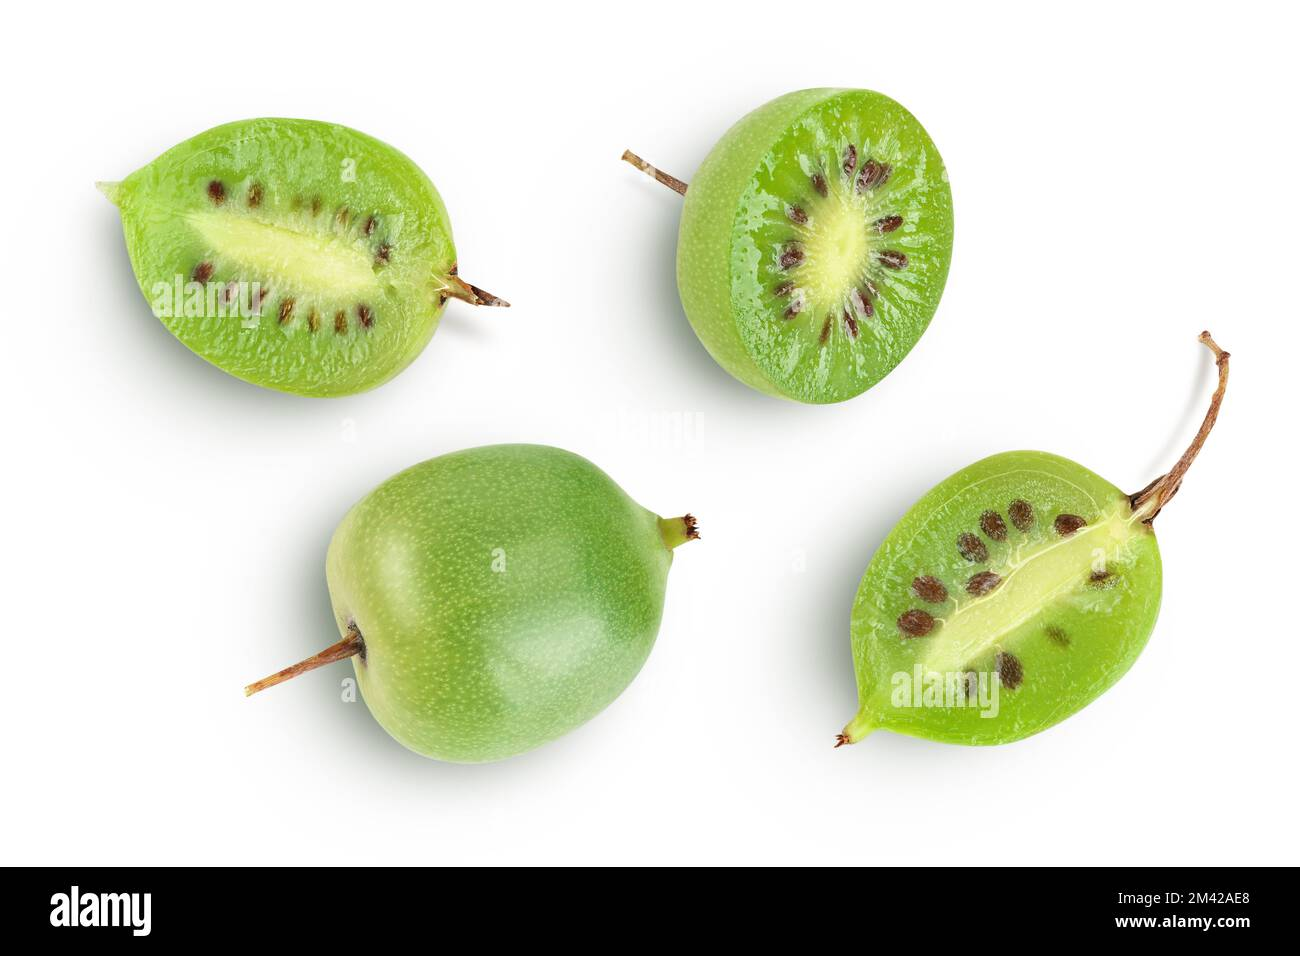kiwi: (59, 86, 1184, 786)
